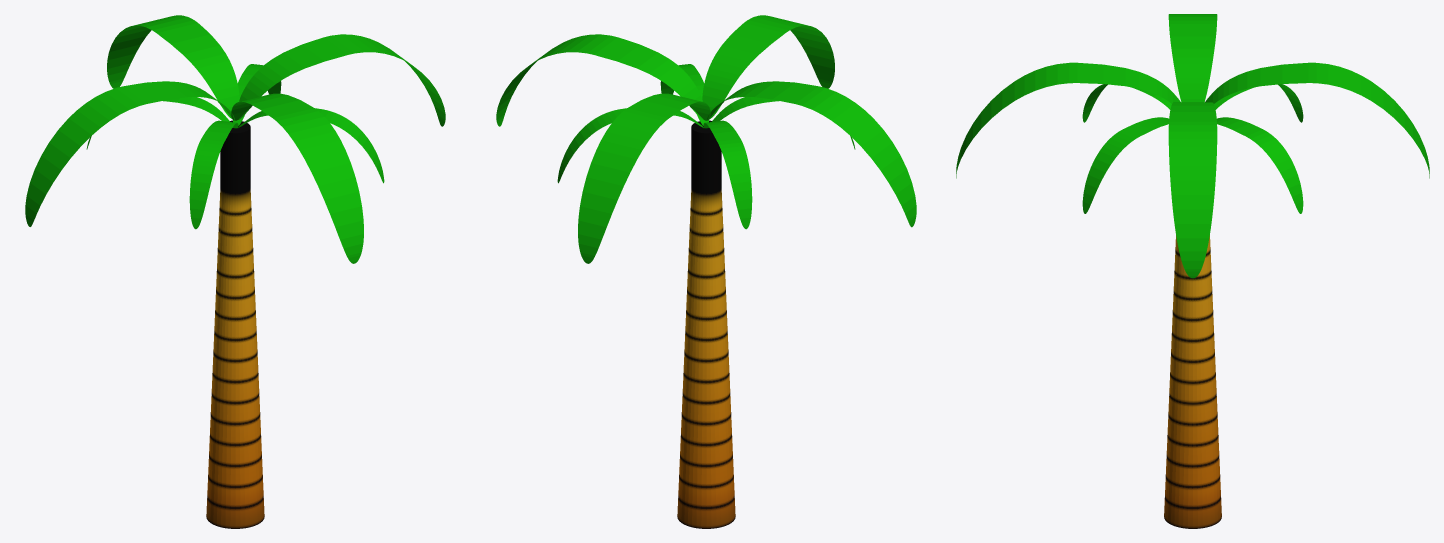
File: DK's_Jungle_Parkway_Tree_1.obj
The picture shows the model from 3 angles, left to right: view 1: azimuth 30°, elevation 25°; view 2: azimuth 150°, elevation 25°; view 3: azimuth 270°, elevation 25°; orthographic projection.
Visible parts, largest first — view 1: Leaves, Tree; view 2: Leaves, Tree; view 3: Leaves, Tree.
Part boxes in pixels (x1=…): Leaves: x1=25, y1=15, x2=445, y2=263; Tree: x1=206, y1=120, x2=264, y2=528; Leaves: x1=496, y1=15, x2=916, y2=263; Tree: x1=677, y1=120, x2=735, y2=528; Leaves: x1=956, y1=14, x2=1429, y2=278; Tree: x1=1164, y1=235, x2=1221, y2=528.
Size of the model in its own units: 78.5 by 81.13 by 78.5.
Materials: 2 (2 with a texture image).
